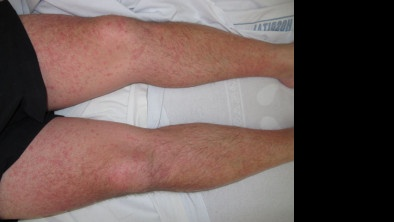SJS-TEN: (17, 109, 198, 220), (33, 12, 169, 90)
